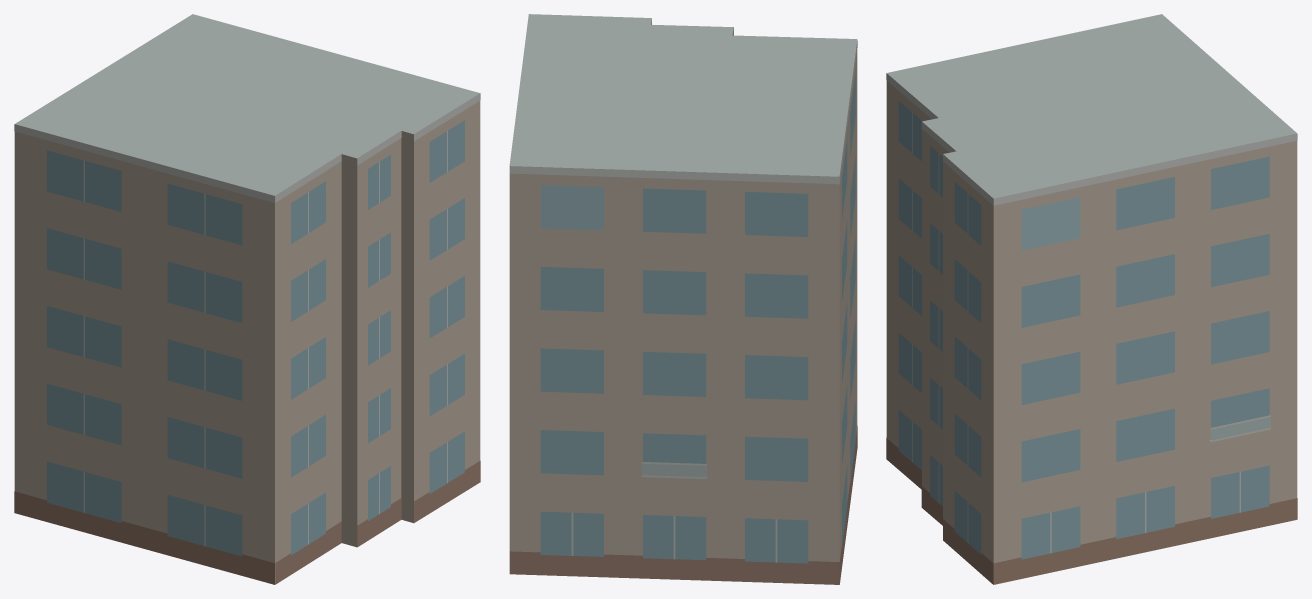
The model's file is survey-upis-32724056.glb.
3 views of the same model, side by side, from view 1: azimuth 30°, elevation 25°; view 2: azimuth 150°, elevation 25°; view 3: azimuth 270°, elevation 25° (orthographic). The views are drawn at different scales.
Visible parts, largest first — view 1: survey-upis-32724056.tmp; view 2: survey-upis-32724056.tmp; view 3: survey-upis-32724056.tmp.
Boxes of the visible parts, x1,y1,x2,y2 form: survey-upis-32724056.tmp: [14, 14, 480, 584]; survey-upis-32724056.tmp: [509, 14, 857, 584]; survey-upis-32724056.tmp: [886, 14, 1297, 584].
Size of the model in its own units: 13.55 by 13.2 by 12.74.
